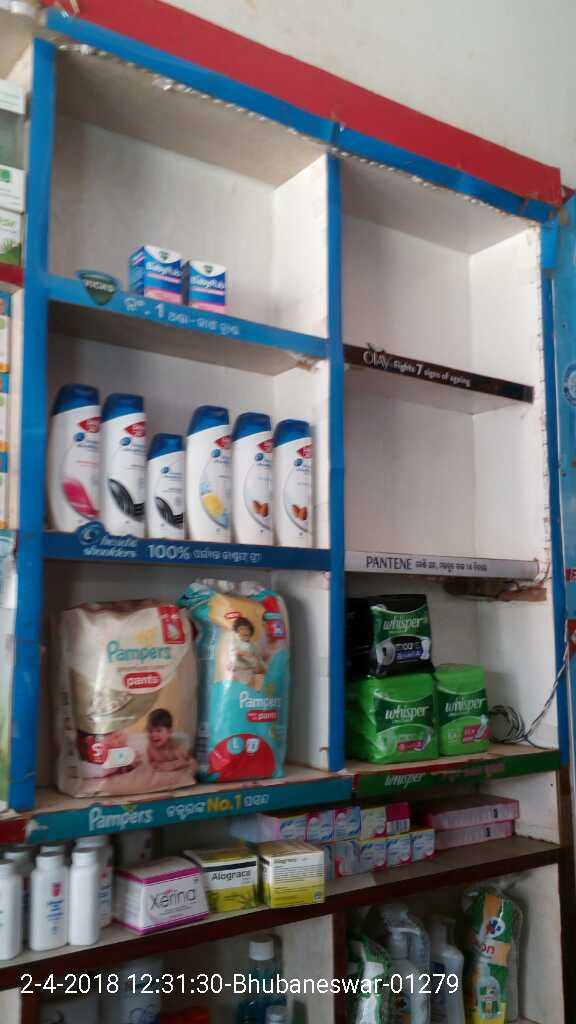oralcare: (241, 934, 302, 1024)
vicks: (130, 253, 190, 300), (190, 266, 226, 300)
